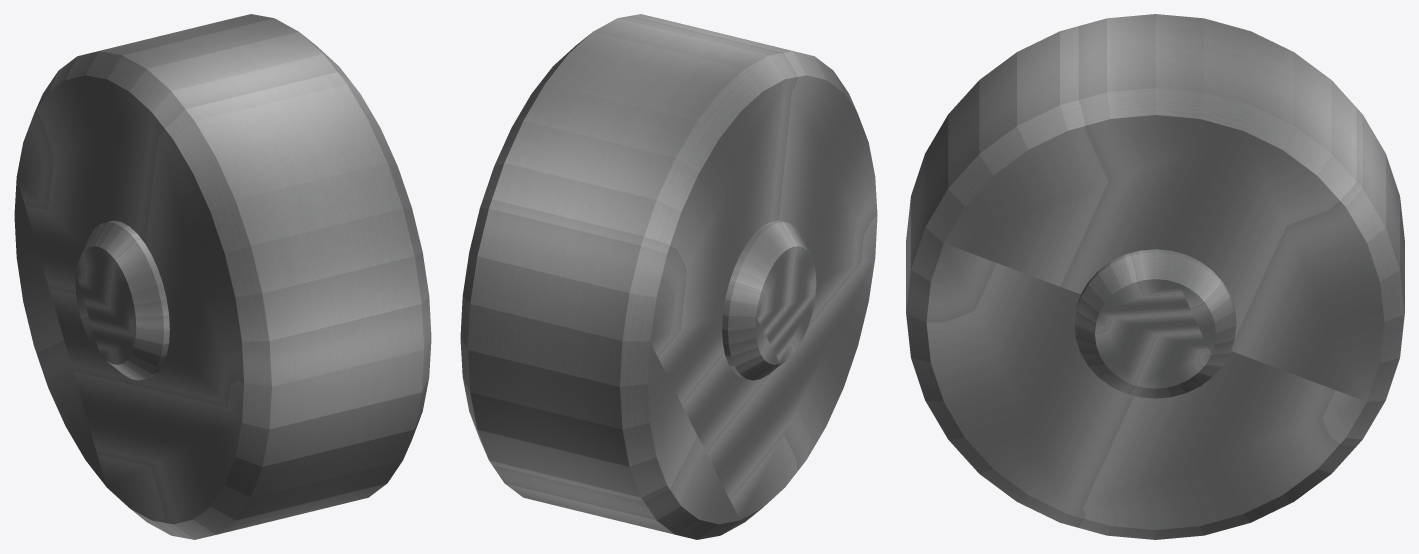
Rendered from rim.glb.
The picture shows the model from 3 angles, left to right: view 1: azimuth 30°, elevation 25°; view 2: azimuth 150°, elevation 25°; view 3: azimuth 270°, elevation 25°; orthographic projection.
Visible parts, largest first — view 1: Cylinder; view 2: Cylinder; view 3: Cylinder.
Boxes of the visible parts, x1,y1,x2,y2 form: Cylinder: (14,14,431,539); Cylinder: (460,14,877,539); Cylinder: (906,14,1404,539).
Size of the model in its own units: 0.2 by 0.37 by 0.37.
Materials: 1 (1 with a texture image).
